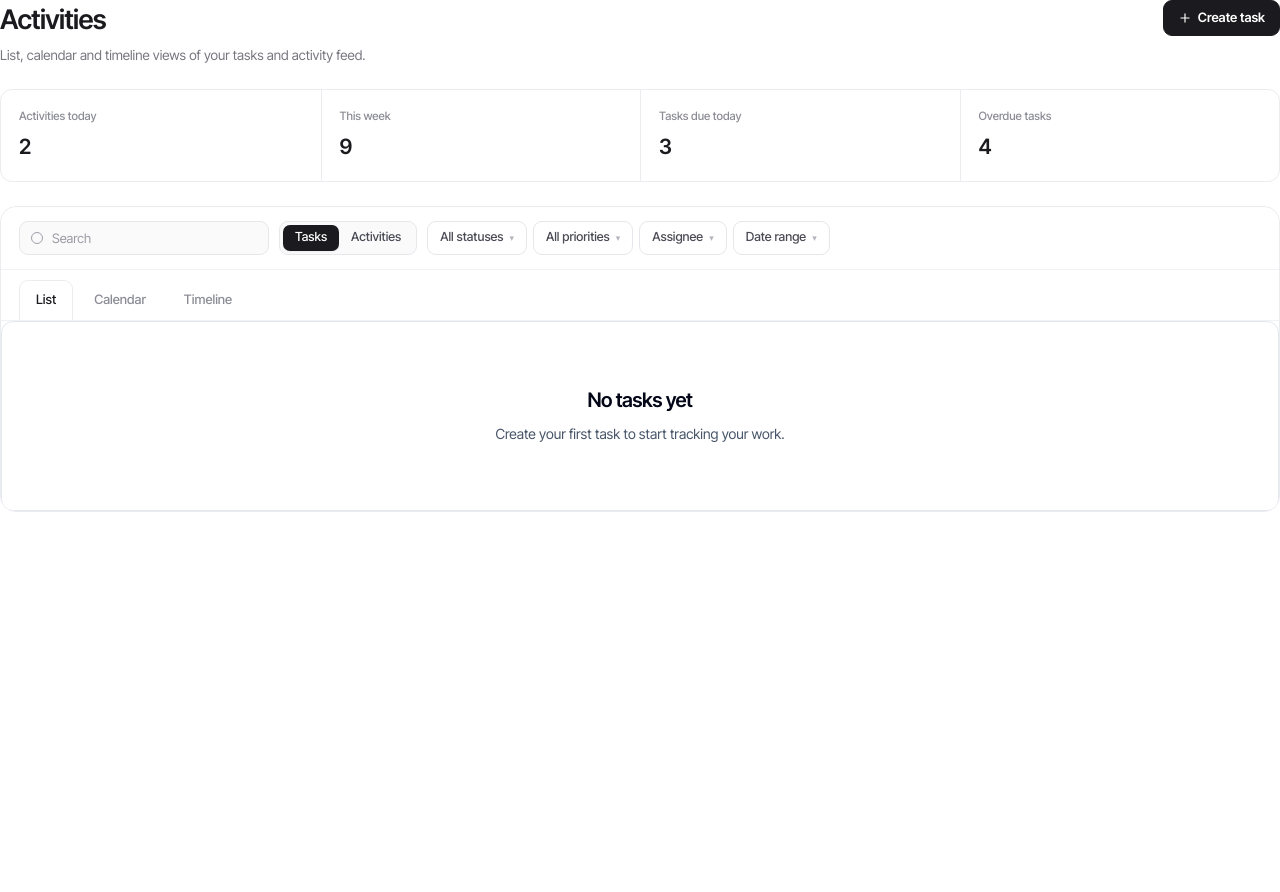
ActivitiesWorkspace (Story 4.4, AC 20-23) › clicking a tab renders the matching view and syncs the URL (AC 22)
Click the tab "Calendar" at (120, 300), box top-left (77, 280), bottom-right (163, 320)
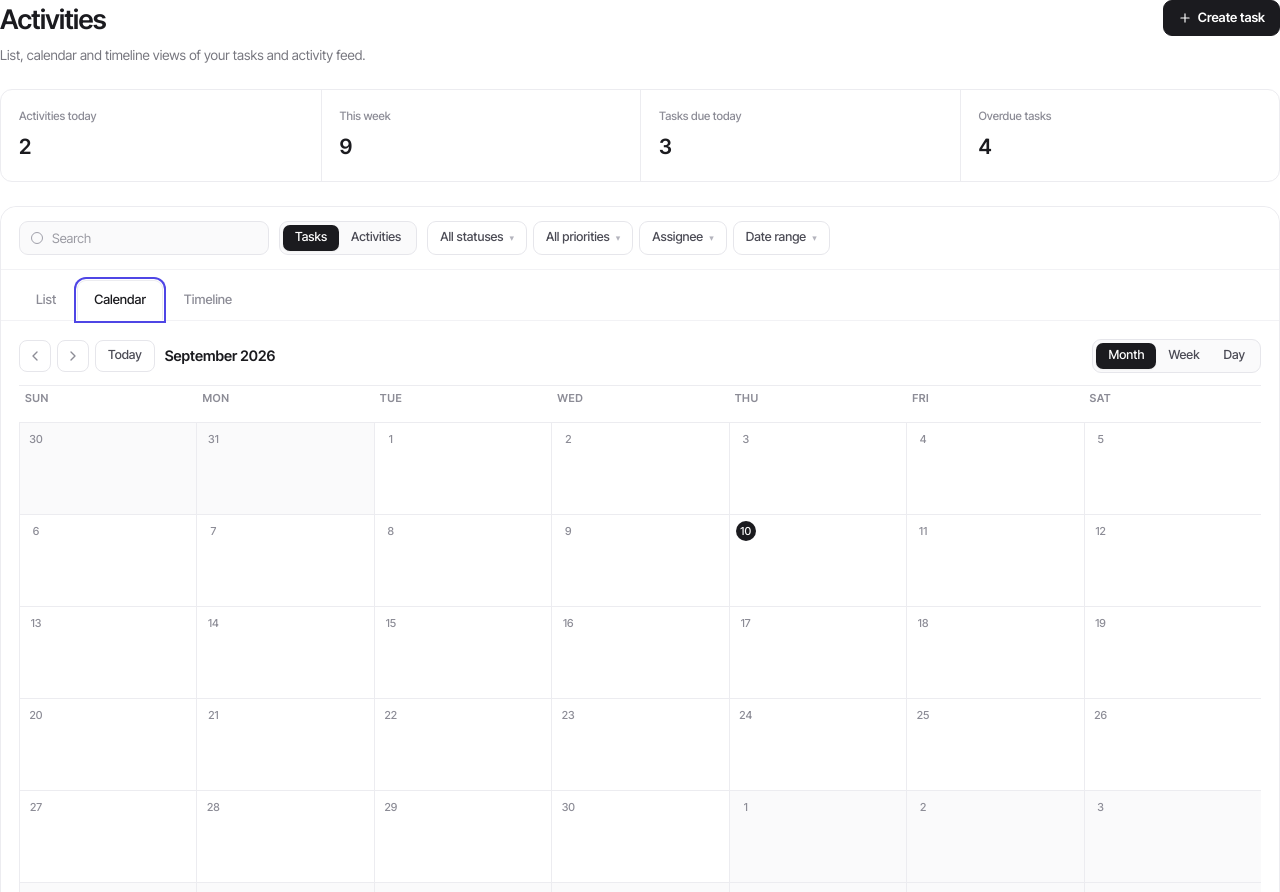
Expected: the button "Today" is shown, top-left (95, 340), bottom-right (155, 372)
